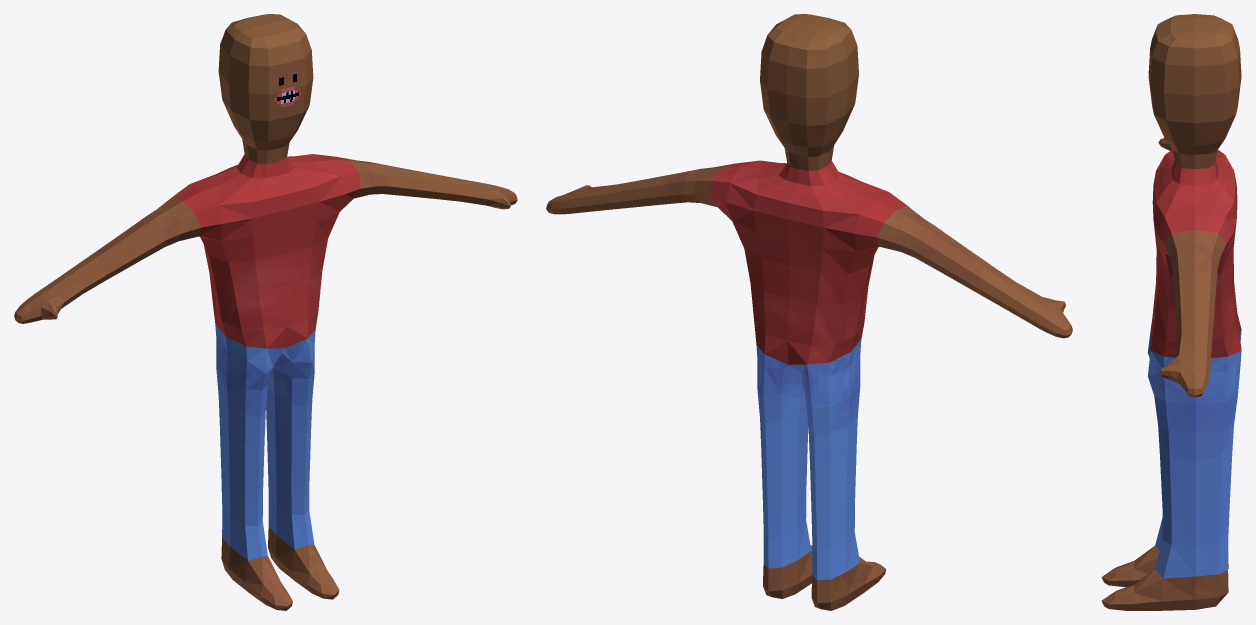
File: lil_man.obj
The picture shows the model from 3 angles, left to right: view 1: azimuth 30°, elevation 25°; view 2: azimuth 150°, elevation 25°; view 3: azimuth 270°, elevation 25°; orthographic projection. The views are drawn at different scales.
Parts seen in each view (by area): view 1: Cube; view 2: Cube; view 3: Cube.
Boxes of the visible parts, <box> form: Cube: <box>14,14,517,610</box>; Cube: <box>546,14,1072,610</box>; Cube: <box>1101,14,1241,610</box>.
Bounding box in the file's own units: 1.67 × 1.75 × 0.3899.
